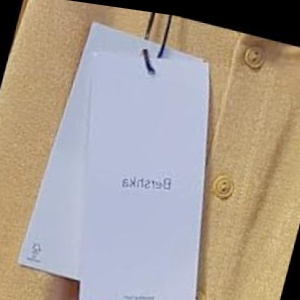bershka: (107, 85, 260, 253)
